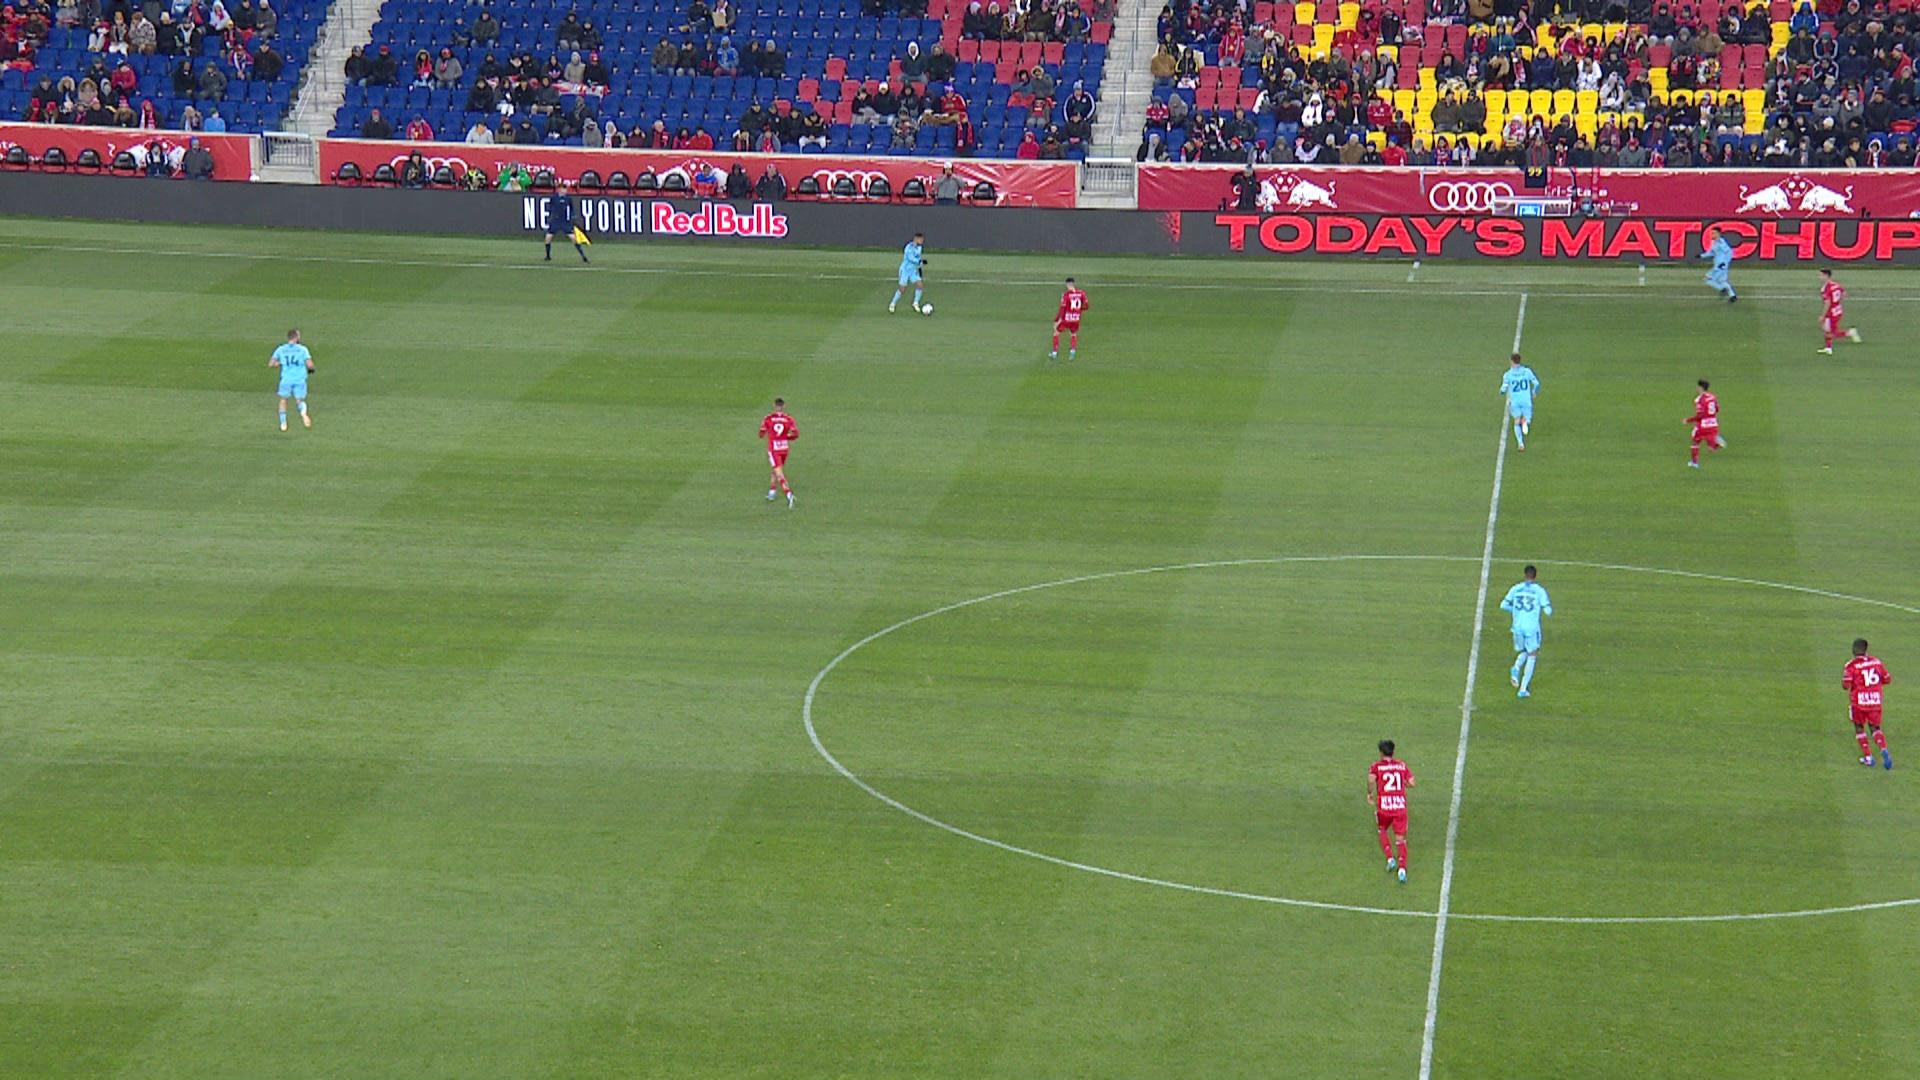football: (920, 302, 935, 316)
